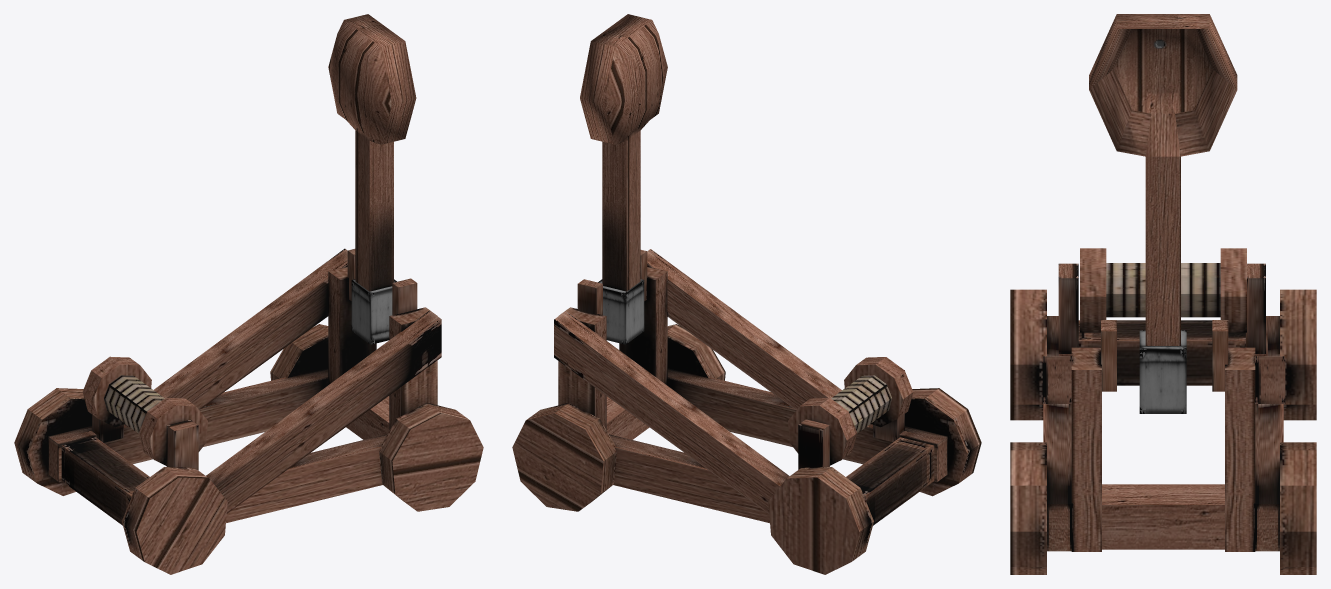
Rendered from Catapult.obj.
The picture shows the model from 3 angles, left to right: view 1: azimuth 30°, elevation 25°; view 2: azimuth 150°, elevation 25°; view 3: azimuth 270°, elevation 25°; orthographic projection. The views are drawn at different scales.
Size of the model in its own units: 1.81 by 2.17 by 1.11.
